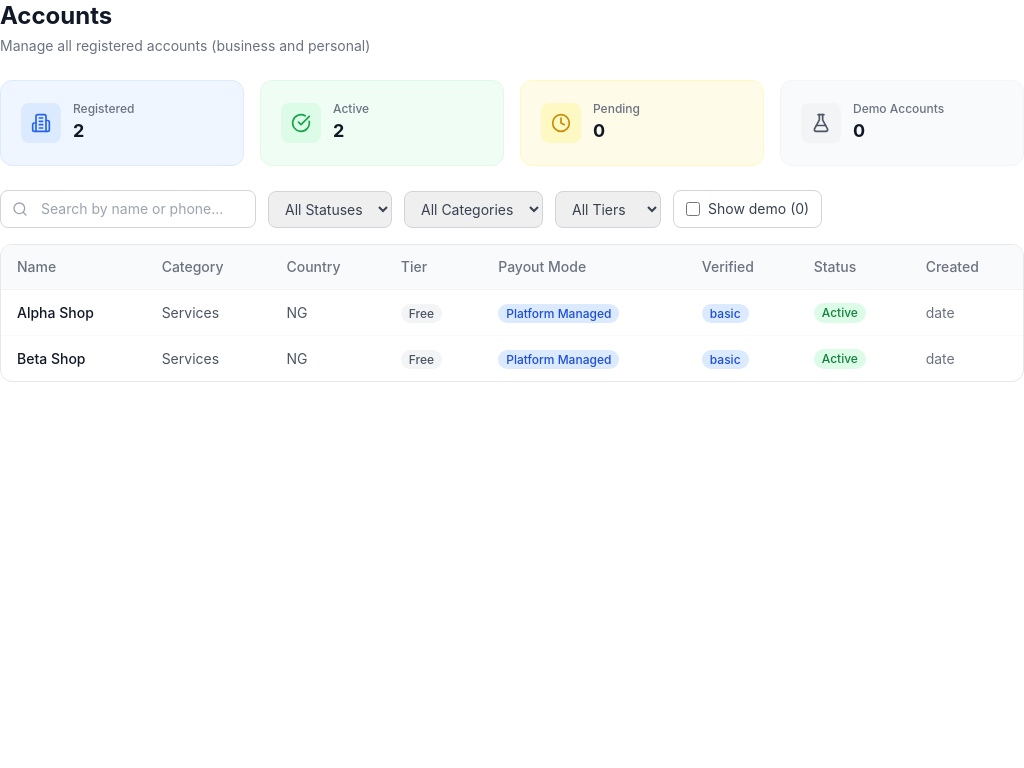
Test: actual Businesses financial summary › renders legitimate empty results
This screenshot has width=1024, height=768.
Click the text "Alpha Shop" at {"x": 55, "y": 312}, box [17,304,94,320]
(page scrolled)
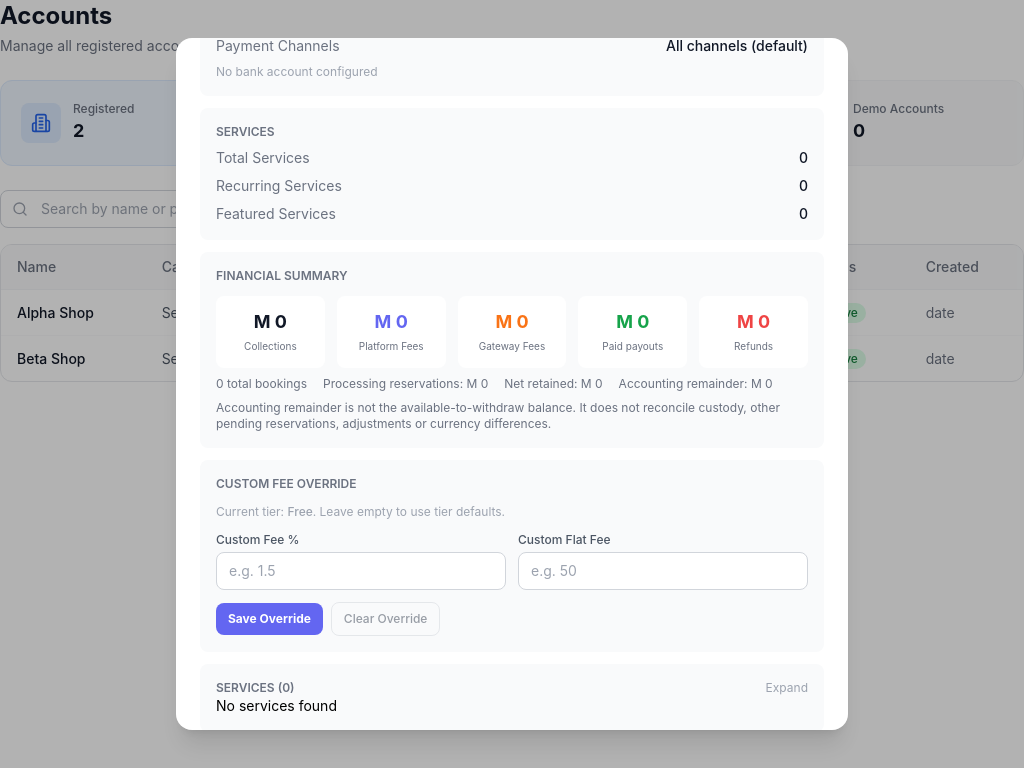
Check: the text "Accounting remainder: M 0" is shown, box [619,376,773,392]
